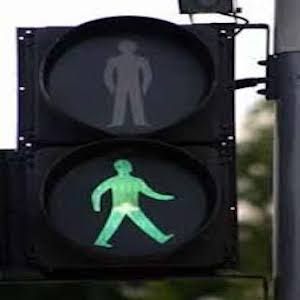green: (83, 152, 178, 246)
